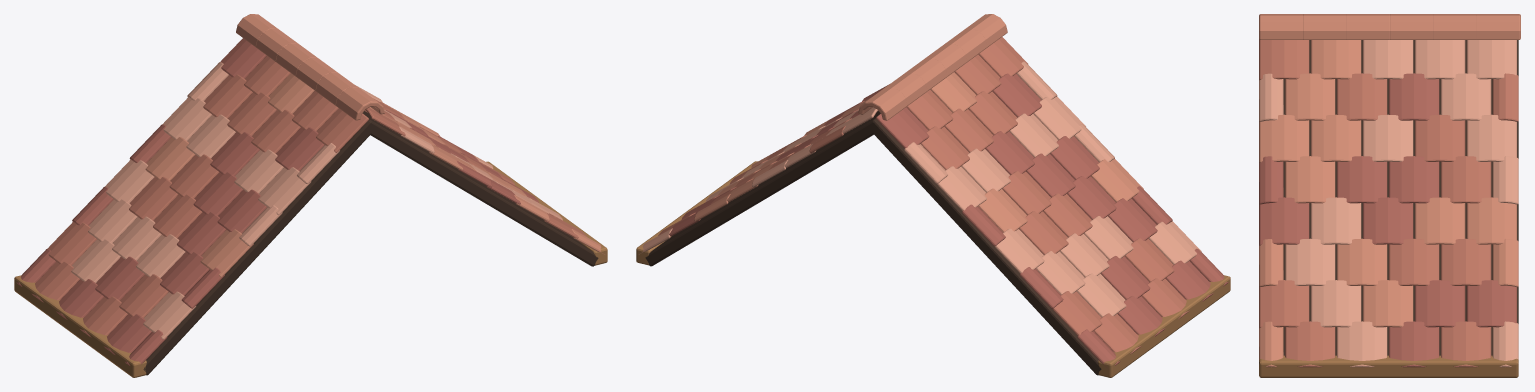
The model's file is roof_gable_4x2m.glb.
3 views of the same model, side by side, from view 1: azimuth 30°, elevation 25°; view 2: azimuth 150°, elevation 25°; view 3: azimuth 270°, elevation 25° (orthographic). The views are drawn at different scales.
Parts seen in each view (by area): view 1: roof_gable_4x2m__finish, roof_gable_4x2m__structure; view 2: roof_gable_4x2m__finish, roof_gable_4x2m__structure; view 3: roof_gable_4x2m__finish, roof_gable_4x2m__structure.
Boxes of the visible parts, <box> form: roof_gable_4x2m__finish: <box>16,14,605,369</box>; roof_gable_4x2m__structure: <box>14,111,607,377</box>; roof_gable_4x2m__finish: <box>638,14,1228,369</box>; roof_gable_4x2m__structure: <box>636,111,1230,377</box>; roof_gable_4x2m__finish: <box>1259,14,1520,367</box>; roof_gable_4x2m__structure: <box>1259,40,1518,377</box>.
Bounding box in the file's own units: 4.59 × 2.02 × 2.02.
